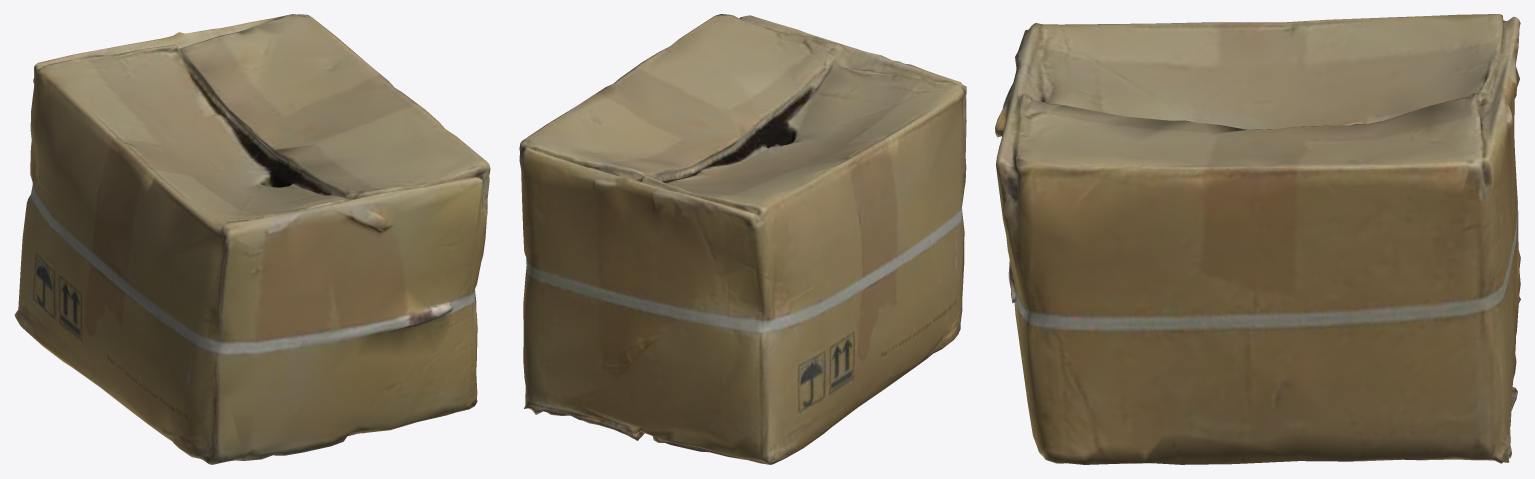
Rendered from cardboard_box_01.glb.
The picture shows the model from 3 angles, left to right: view 1: azimuth 30°, elevation 25°; view 2: azimuth 150°, elevation 25°; view 3: azimuth 270°, elevation 25°; orthographic projection. The views are drawn at different scales.
Parts seen in each view (by area): view 1: cardboard_box_01; view 2: cardboard_box_01; view 3: cardboard_box_01.
Boxes of the visible parts, x1,y1,x2,y2 form: cardboard_box_01: [14, 14, 490, 464]; cardboard_box_01: [519, 14, 966, 464]; cardboard_box_01: [995, 14, 1520, 464].
Bounding box in the file's own units: 0.3869 × 0.3418 × 0.5159.
Materials: 1 (1 with a texture image).
